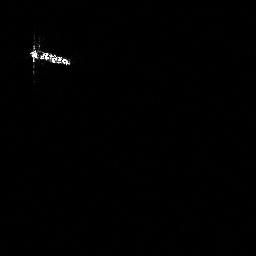ship: (25, 37, 74, 76)
